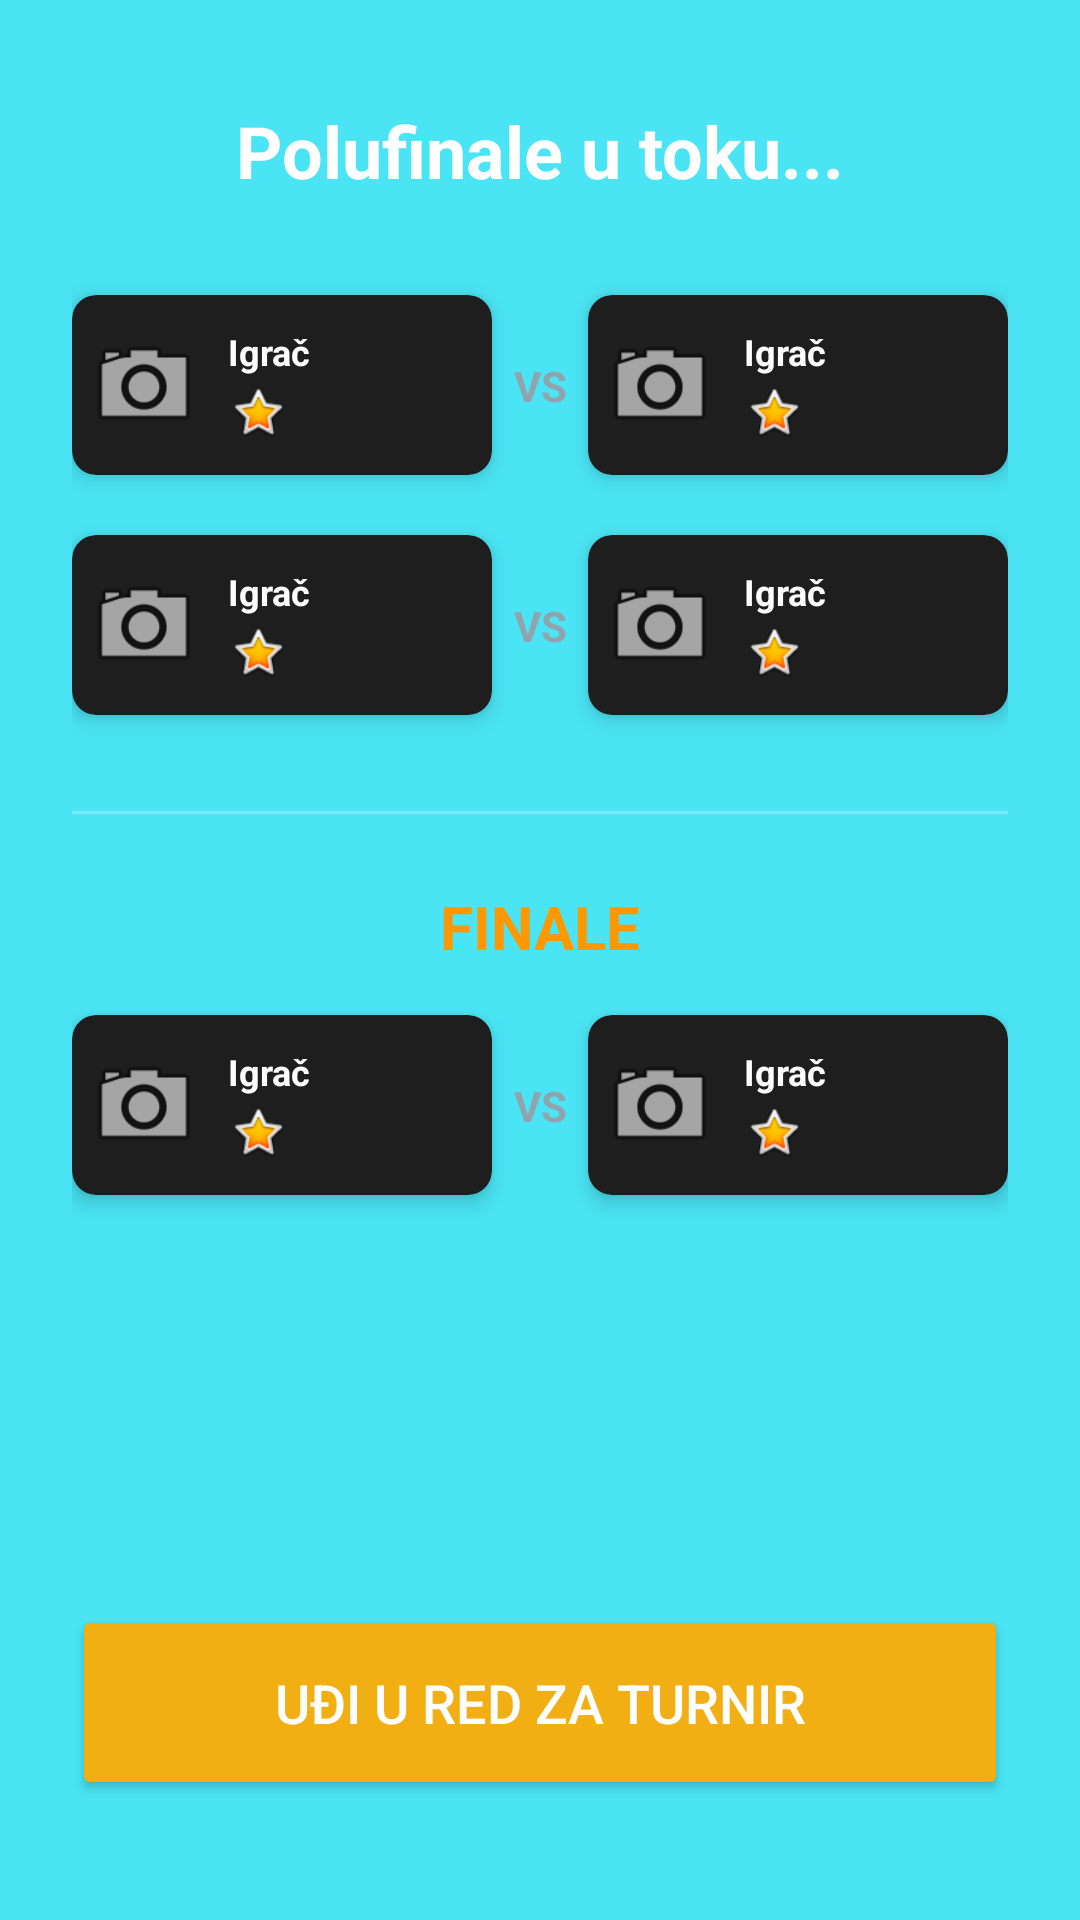

Icon bounding boxes for this 1080×1920 phone screenshot, format (x1, y1, x2, y2):
camera: (101, 350, 187, 416), (617, 350, 703, 416), (101, 590, 187, 656), (617, 590, 703, 656), (101, 1070, 187, 1136), (617, 1070, 703, 1136)
star on: (235, 389, 283, 435), (751, 389, 799, 435), (235, 629, 283, 675), (751, 629, 799, 675), (235, 1109, 283, 1155), (751, 1109, 799, 1155)
